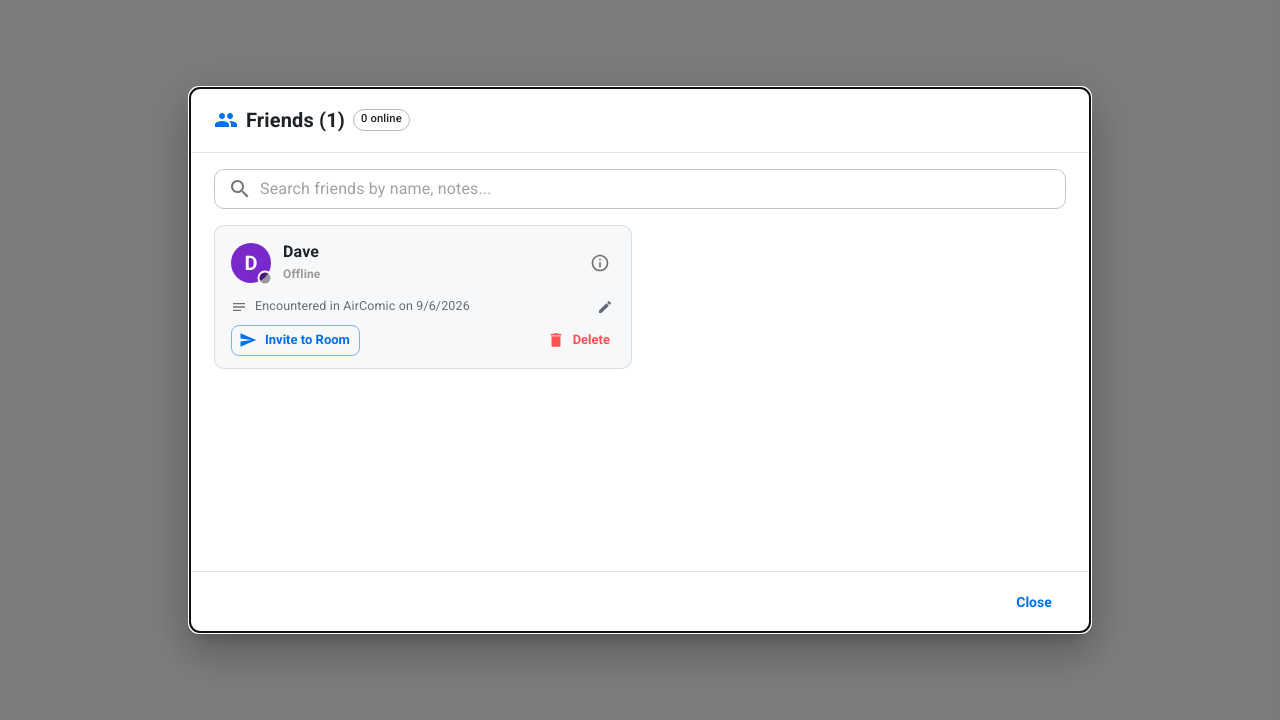
Test: FriendsDialog › cancels notes editing without saving
Click the button named "Edit note for Dave".
click(605, 307)  # box 595,297 -> 615,317
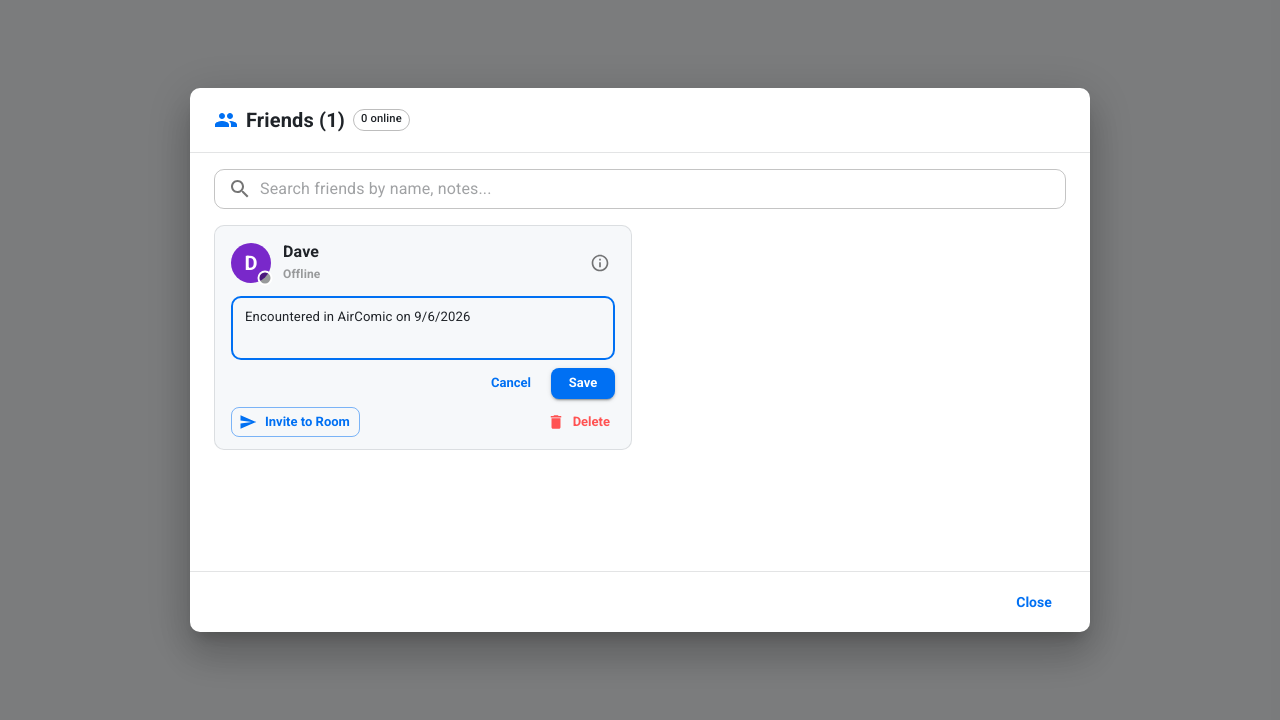
Replace the text in the text box with placeholder "Add a note..." with "Different note" at (423, 328), box 245,305 -> 601,351
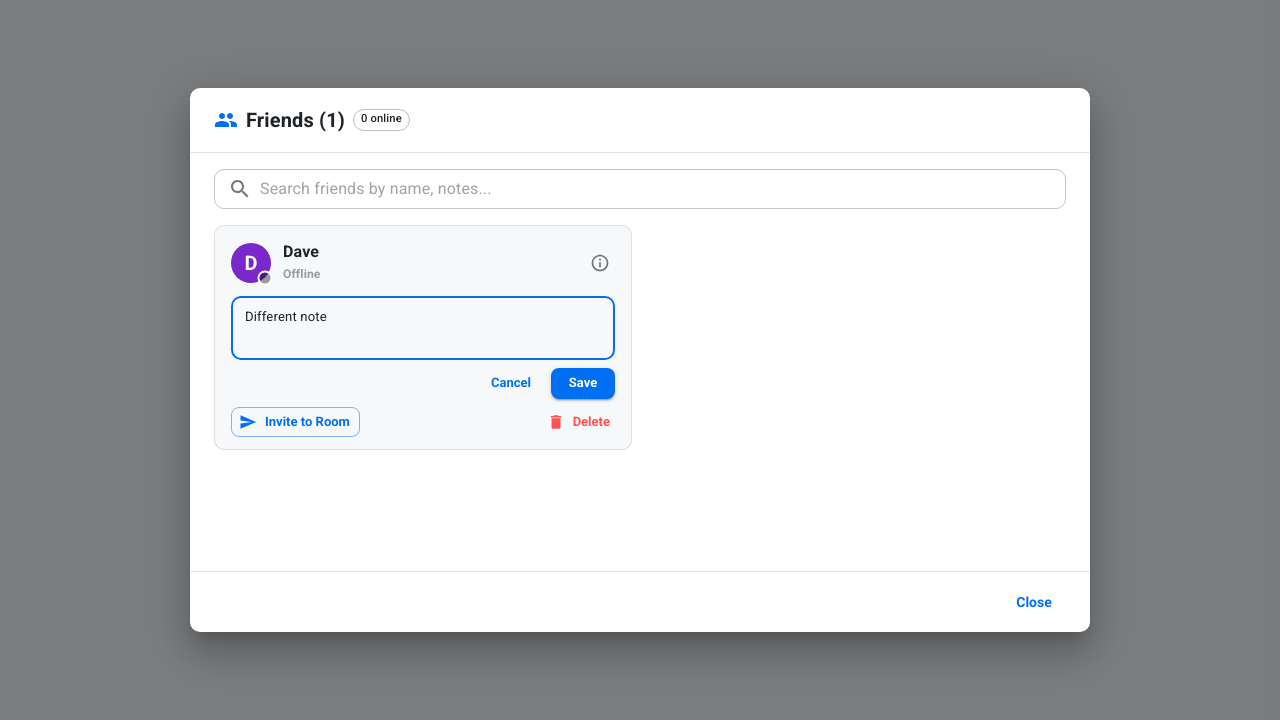
Click the button "Cancel".
click(511, 383)  # box 479,368 -> 543,399
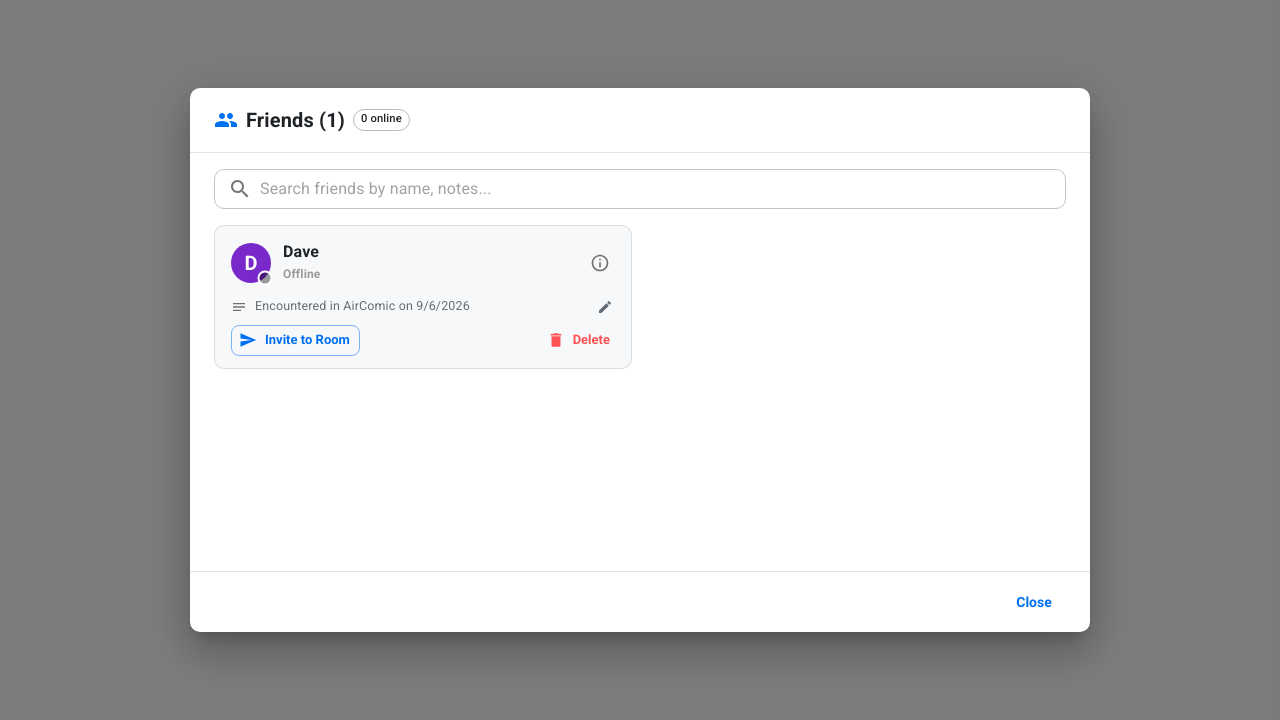
Expected: the text "Encountered in AirComic on 9/6/2026" is shown, 255,297 -> 470,314
